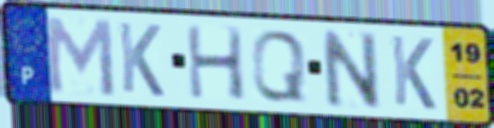H: (183, 23, 249, 103)
K: (387, 32, 439, 113), (115, 19, 166, 100)
M: (39, 14, 119, 100)
N: (318, 27, 384, 110)
Q: (249, 28, 308, 105)
